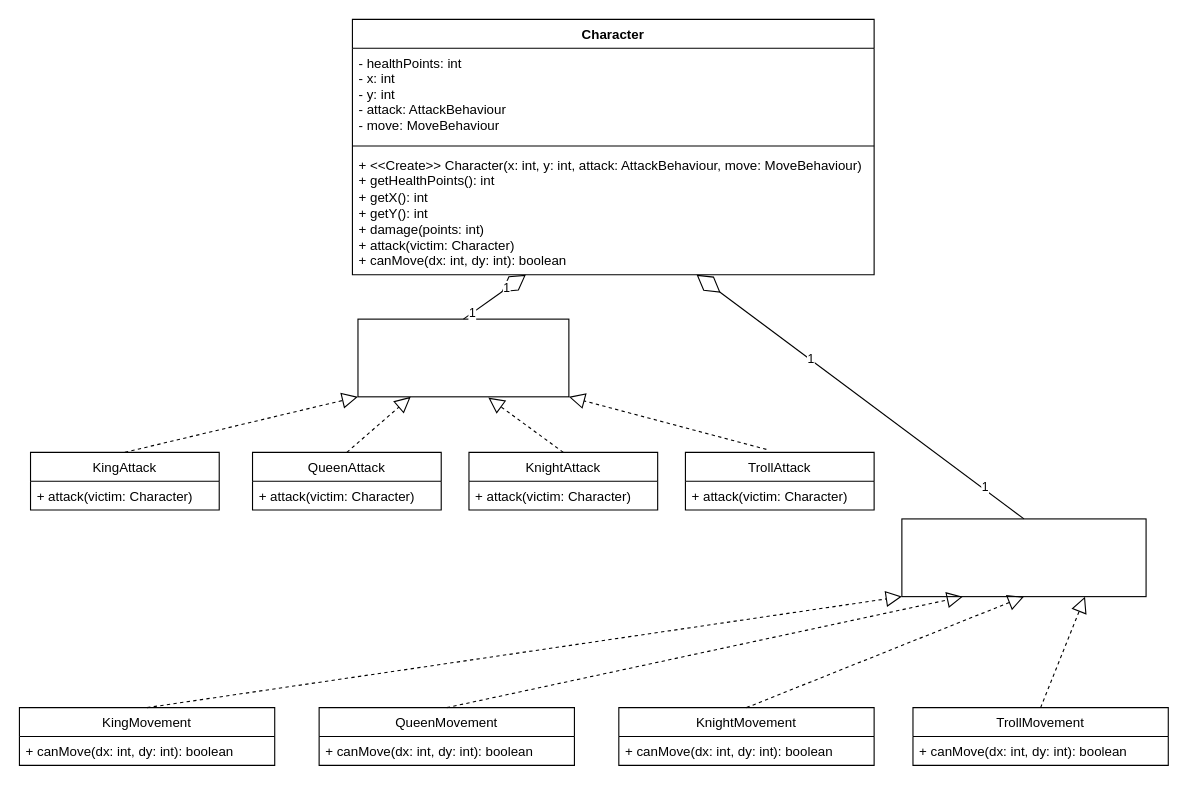
The diagram is 1188 pixels wide and 788 high, and some of its shapes have lost their labels. Each missing label, with the centre of its shape:
<<Interface>> AttackBehaviour + attack(victim: Character): the point at 463,357
<<Interface>> MoveBehaviour + canMove(dx: int, dy: int): boolean: the point at 1023,557
